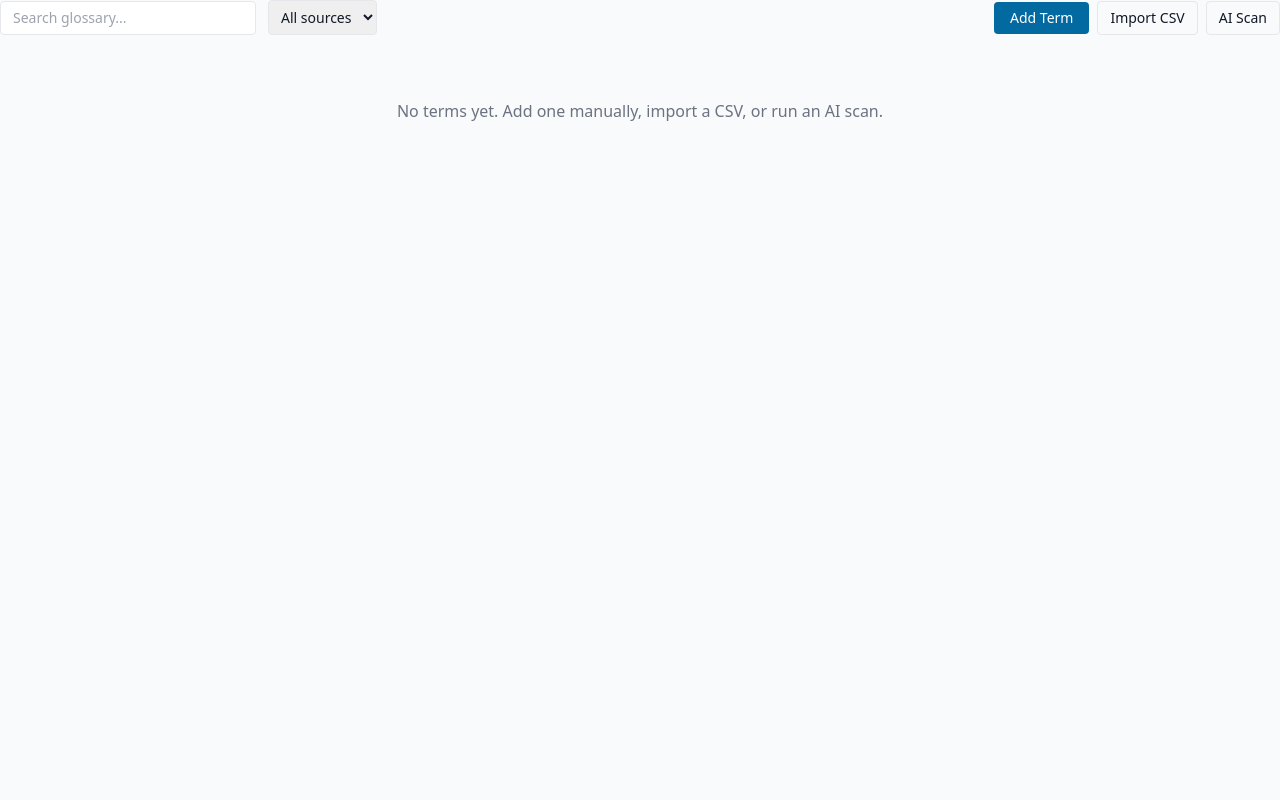
Test: the AI scan modal names AI and the org LLM provider
Expected: the text "No terms yet" is shown, x1=397 y1=100 x2=503 y2=122
What coordinates should you click on to do the following:
click the button "AI Scan"
I would click on:
 (1243, 18)
Its box is x1=1206 y1=0 x2=1279 y2=34.
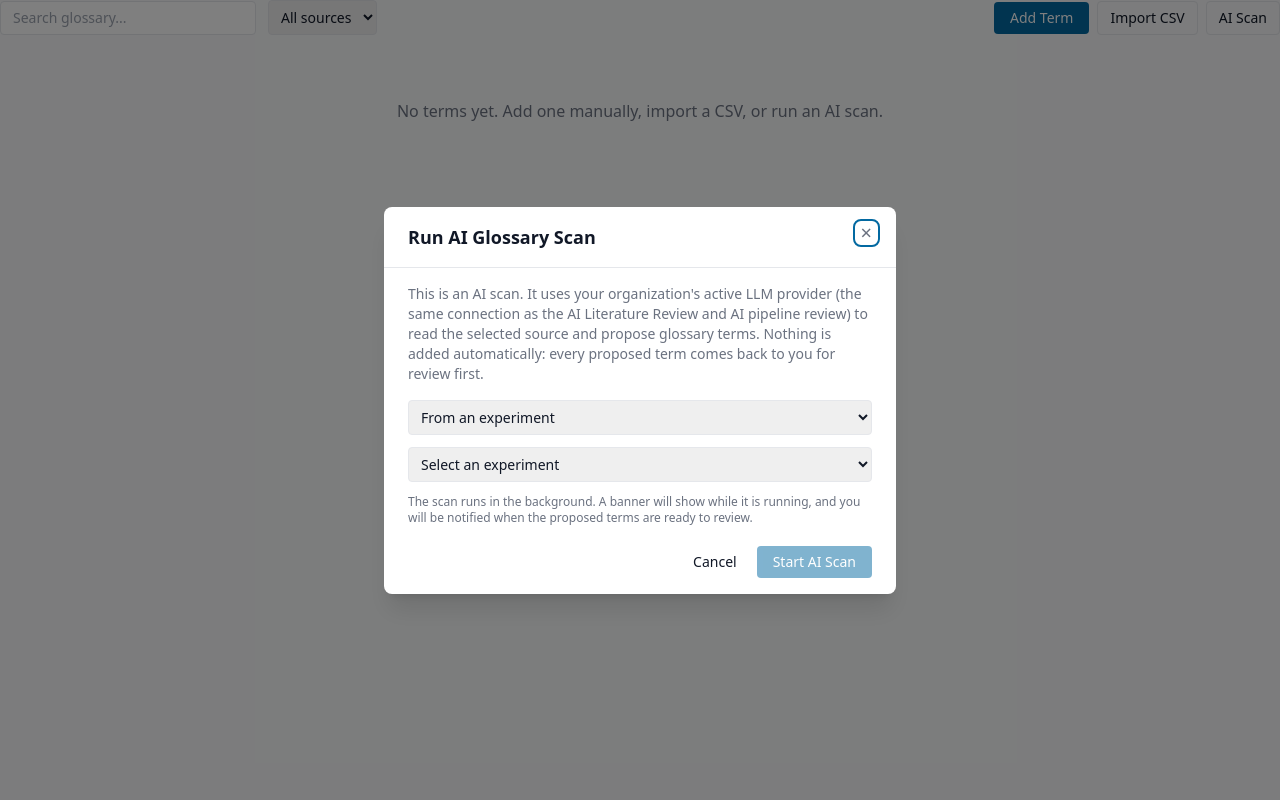
Expected: the heading "Run AI Glossary Scan" is shown, x1=408 y1=222 x2=596 y2=250
Expected: the text "LLM provider" is shown, x1=408 y1=284 x2=868 y2=382
